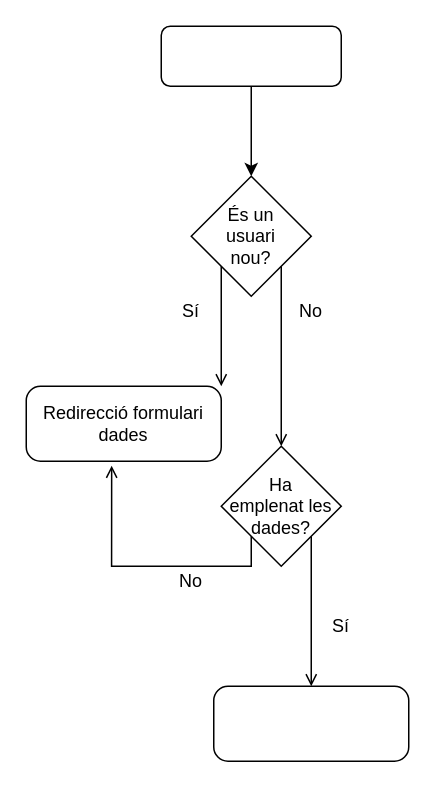
Image size: 435x788. Some labels were removed from this diagram. Here are the shapes that lost their labels. From the top down, the centre of each, then its label:
At point 250,55: "Login".
At point 310,723: "Redirecció inici".
